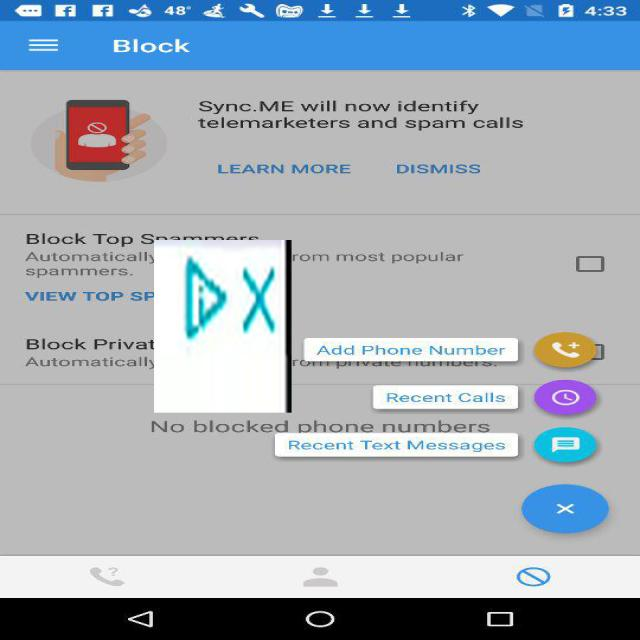sneaking: (154, 240, 292, 413)
